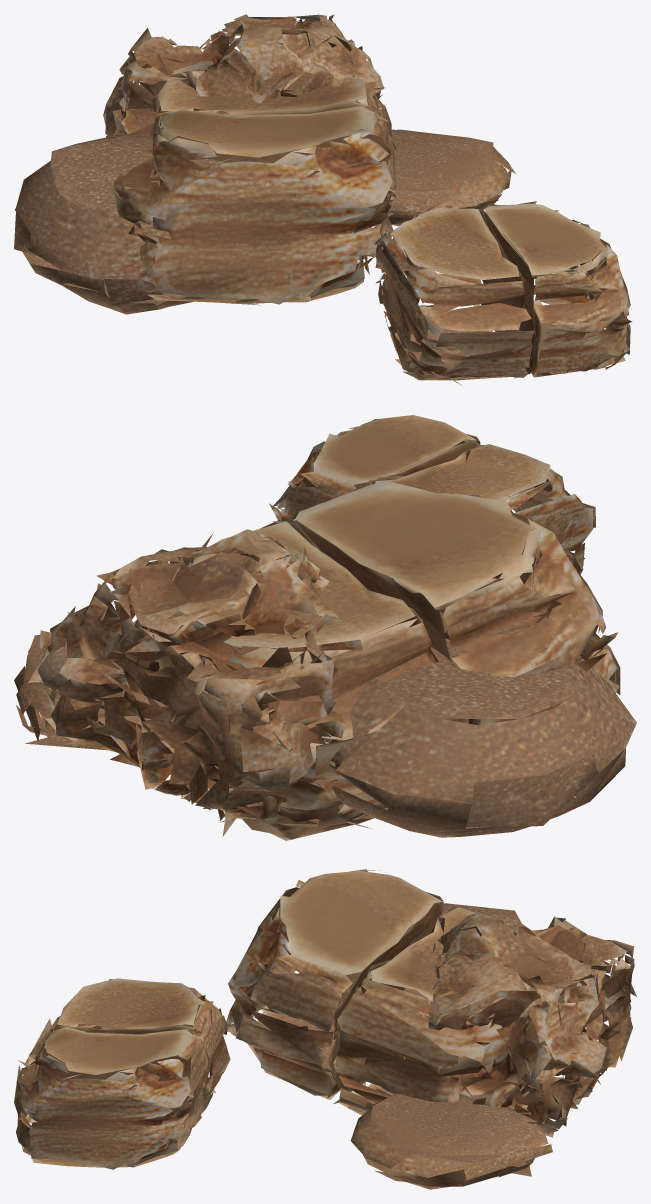
Rendered from desert_pebble_heap.glb.
3 views of the same model, one above another, from view 1: azimuth 30°, elevation 25°; view 2: azimuth 150°, elevation 25°; view 3: azimuth 270°, elevation 25° (orthographic). The views are drawn at different scales.
Parts seen in each view (by area): view 1: desert_pebble_heap; view 2: desert_pebble_heap; view 3: desert_pebble_heap.
Boxes of the visible parts, <box> form: desert_pebble_heap: <box>14,14,633,385</box>; desert_pebble_heap: <box>14,415,636,840</box>; desert_pebble_heap: <box>14,869,636,1189</box>.
Bounding box in the file's own units: 2.47 × 1.06 × 2.94.
Materials: 4 (4 with a texture image).
